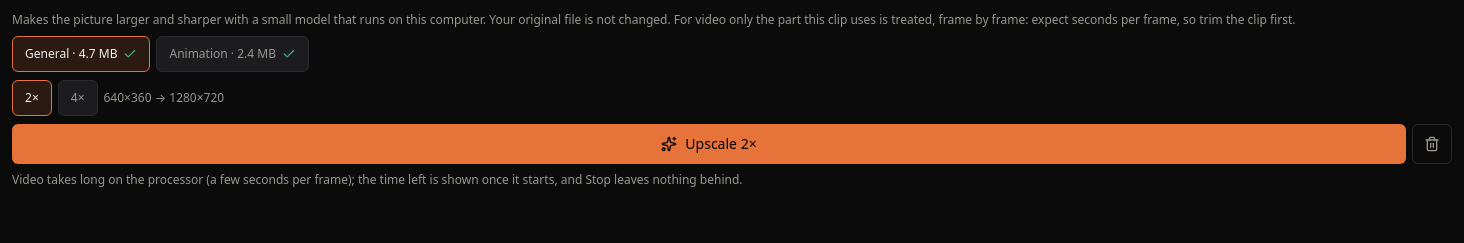
Scenario: upscaling a video clip › runs from the panel on the stretch the clip uses, as one undo step
Expected: the text "frame by frame" is shown, x1=671 y1=11 x2=1296 y2=28
Click the button "Upscale 2×". click: {"x": 709, "y": 144}
box: x1=12 y1=124 x2=1406 y2=164
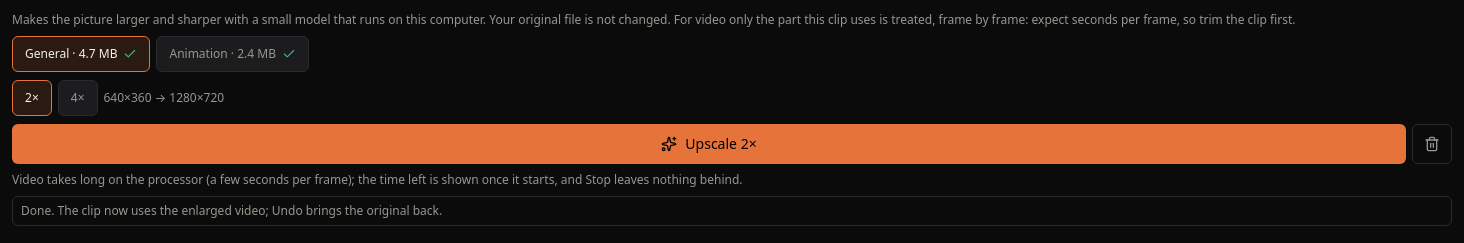
Expected: the message shows "now uses the enlarged video", x1=21 y1=202 x2=442 y2=219
